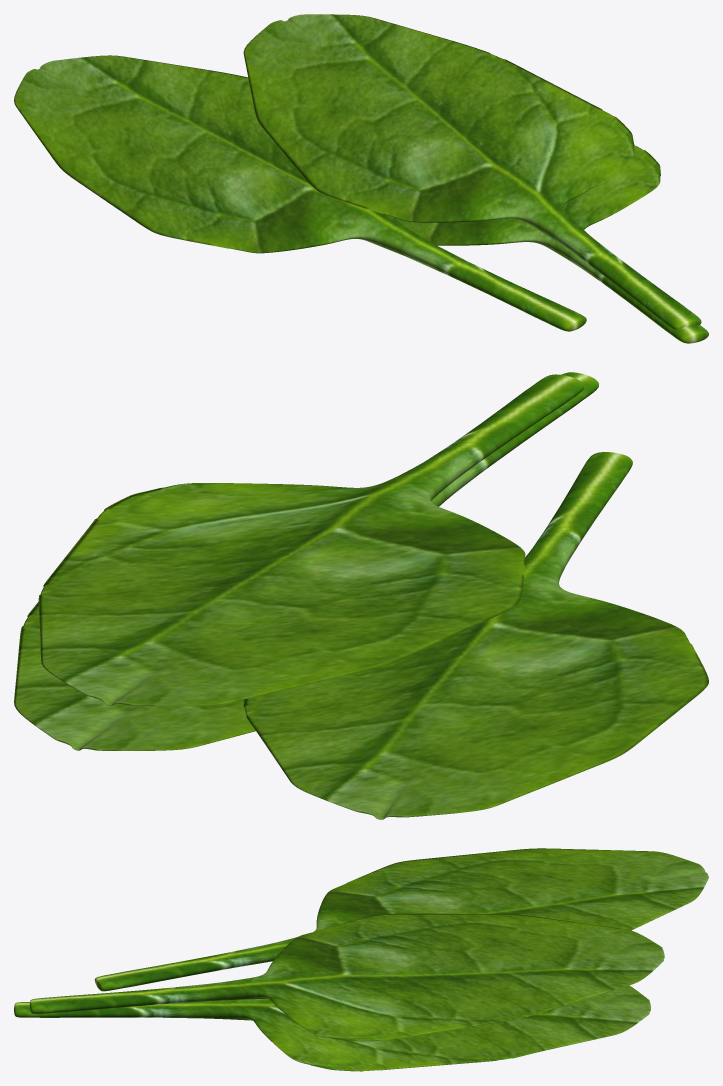
The model's file is spinach.glb.
The picture shows the model from 3 angles, top to bottom: view 1: azimuth 30°, elevation 25°; view 2: azimuth 150°, elevation 25°; view 3: azimuth 270°, elevation 25°; orthographic projection. The views are drawn at different scales.
Parts seen in each view (by area): view 1: pCube8, pCube9, pCube7; view 2: pCube8, pCube9, pCube7; view 3: pCube8, pCube9, pCube7.
Part boxes in pixels (left/top/right/bottom): pCube8: left=243, top=14, right=701, bottom=329; pCube9: left=14, top=55, right=586, bottom=331; pCube7: left=398, top=145, right=708, bottom=343; pCube8: left=38, top=374, right=583, bottom=706; pCube9: left=243, top=452, right=708, bottom=819; pCube7: left=14, top=372, right=598, bottom=750; pCube8: left=29, top=913, right=664, bottom=1041; pCube9: left=94, top=848, right=708, bottom=991; pCube7: left=14, top=985, right=650, bottom=1071.
Bounding box in the file's own units: 0.0169 × 0.00203 × 0.0247.
Materials: 1 (1 with a texture image).
